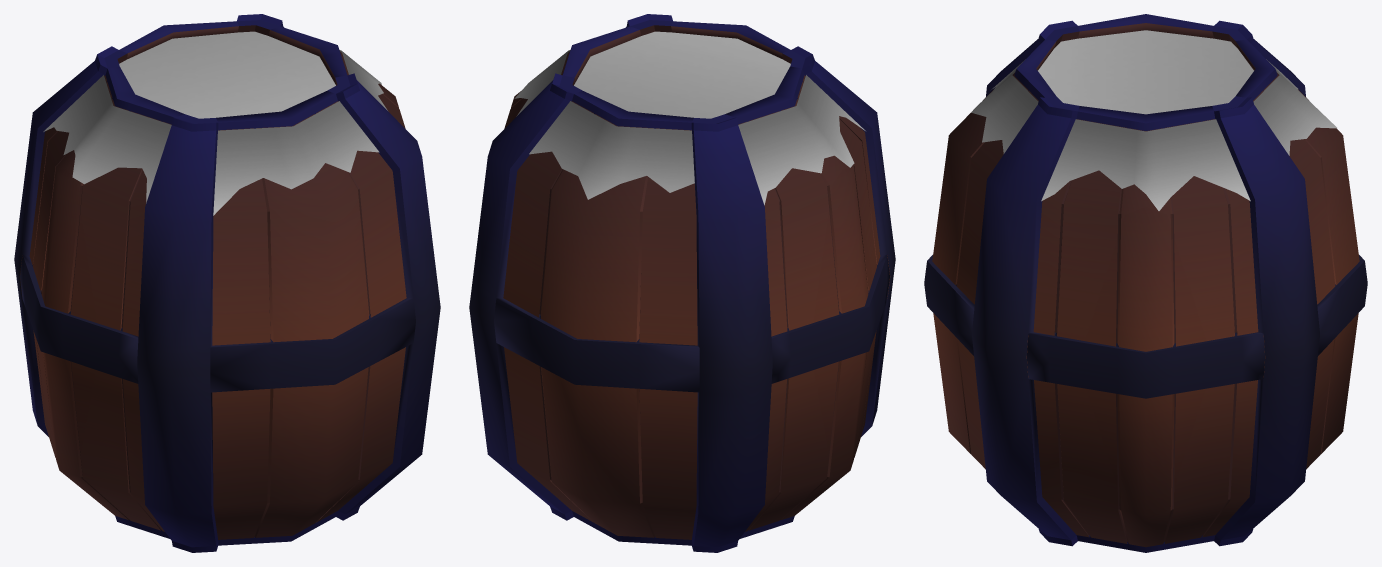
Rendered from WRLD_FBX_BARREL 1.fbx.
3 renders of one model, left to right at view 1: azimuth 30°, elevation 25°; view 2: azimuth 150°, elevation 25°; view 3: azimuth 270°, elevation 25°, orthographic.
Visible parts, largest first — view 1: Cylinder.010; view 2: Cylinder.010; view 3: Cylinder.010.
Part boxes in pixels (box(x1,y1,x2,y2)): Cylinder.010: box(14, 14, 440, 552); Cylinder.010: box(469, 14, 895, 552); Cylinder.010: box(924, 14, 1367, 552).
Bounding box in the file's own units: 109 × 118 × 109.
